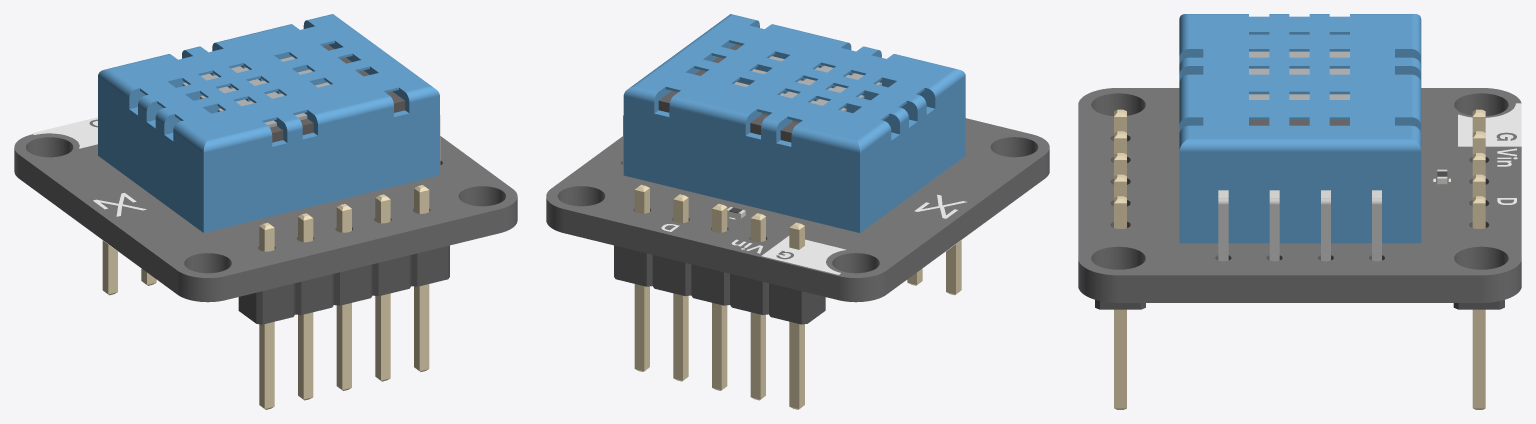
The picture shows the model from 3 angles, left to right: view 1: azimuth 30°, elevation 25°; view 2: azimuth 150°, elevation 25°; view 3: azimuth 270°, elevation 25°; orthographic projection. The views are drawn at different scales.
Parts seen in each view (by area): view 1: Node8, Node12, Node5, Node4, Node11, Node10, Node9; view 2: Node8, Node12, Node5, Node4, Node11, Node9, Node10; view 3: Node8, Node12, Node5, Node6, Node11, Node10, Node4.
Part boxes in pixels (x1,y1,x2,y2): Node8: (98, 14, 439, 232); Node12: (14, 119, 517, 302); Node5: (102, 185, 429, 409); Node4: (238, 245, 449, 324); Node11: (32, 117, 146, 268); Node10: (182, 56, 330, 127); Node9: (270, 44, 404, 142); Node8: (623, 14, 965, 232); Node12: (546, 118, 1049, 302); Node5: (634, 184, 961, 409); Node4: (614, 245, 825, 324); Node11: (661, 194, 1007, 274); Node9: (658, 44, 797, 142); Node10: (734, 56, 881, 123); Node8: (1179, 14, 1421, 243); Node12: (1078, 88, 1521, 302); Node5: (1114, 109, 1485, 409); Node6: (1218, 198, 1381, 261); Node11: (1433, 103, 1521, 204); Node10: (1249, 51, 1349, 99); Node4: (1095, 300, 1504, 309).
Size of the model in its own units: 22 by 15.89 by 22.
